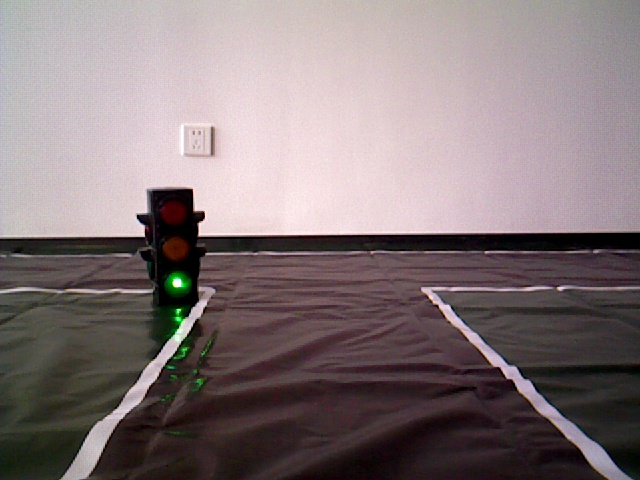green: (145, 193, 198, 303)
